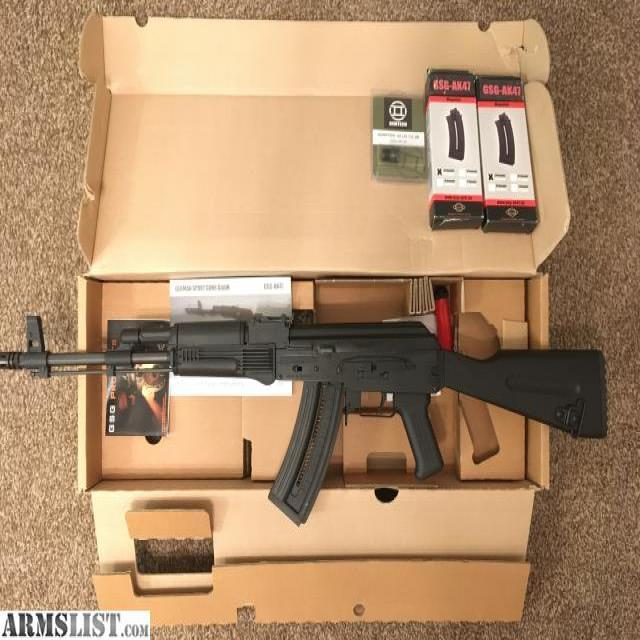weapon: (3, 316, 608, 528)
